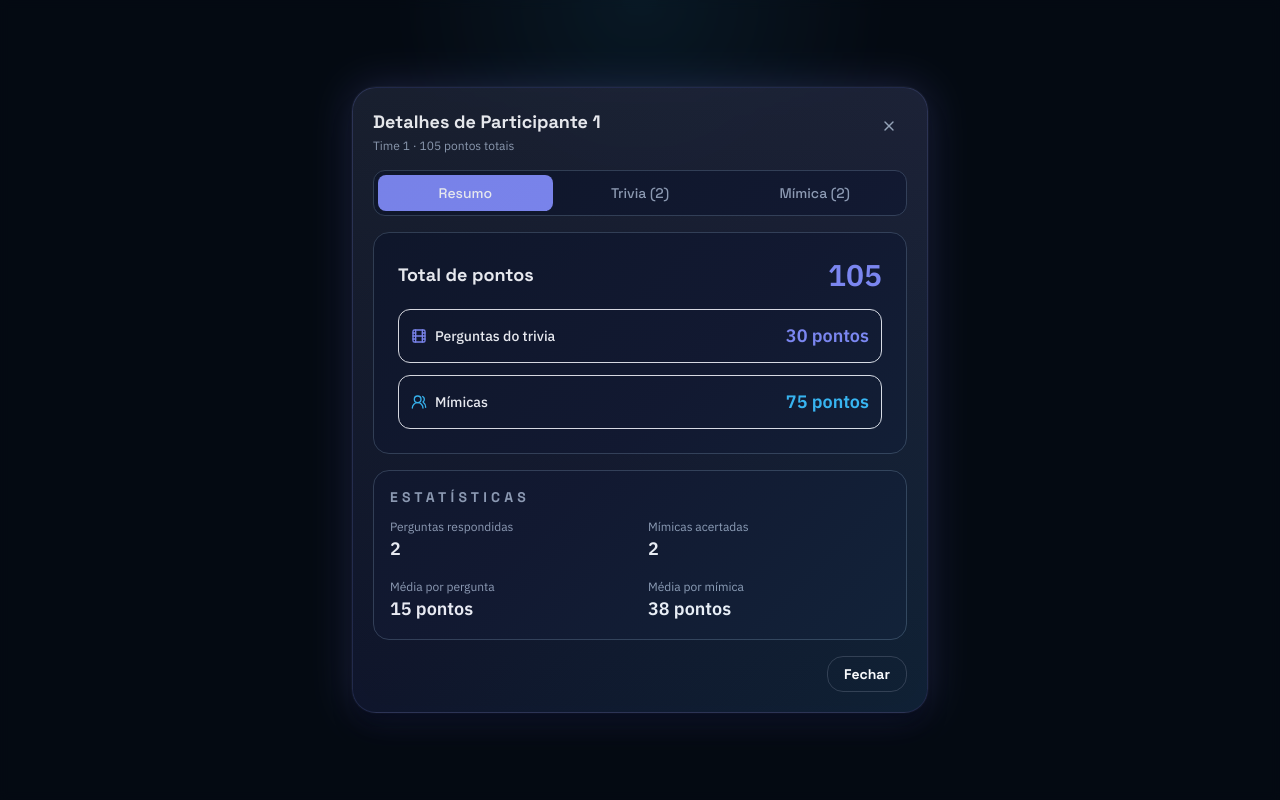
Test: ScoreDetailView › deve mostrar aba de Trivia com perguntas respondidas
This screenshot has width=1280, height=800.
Click the button "Trivia (2)" at (640, 193), box x1=553 y1=175 x2=727 y2=211
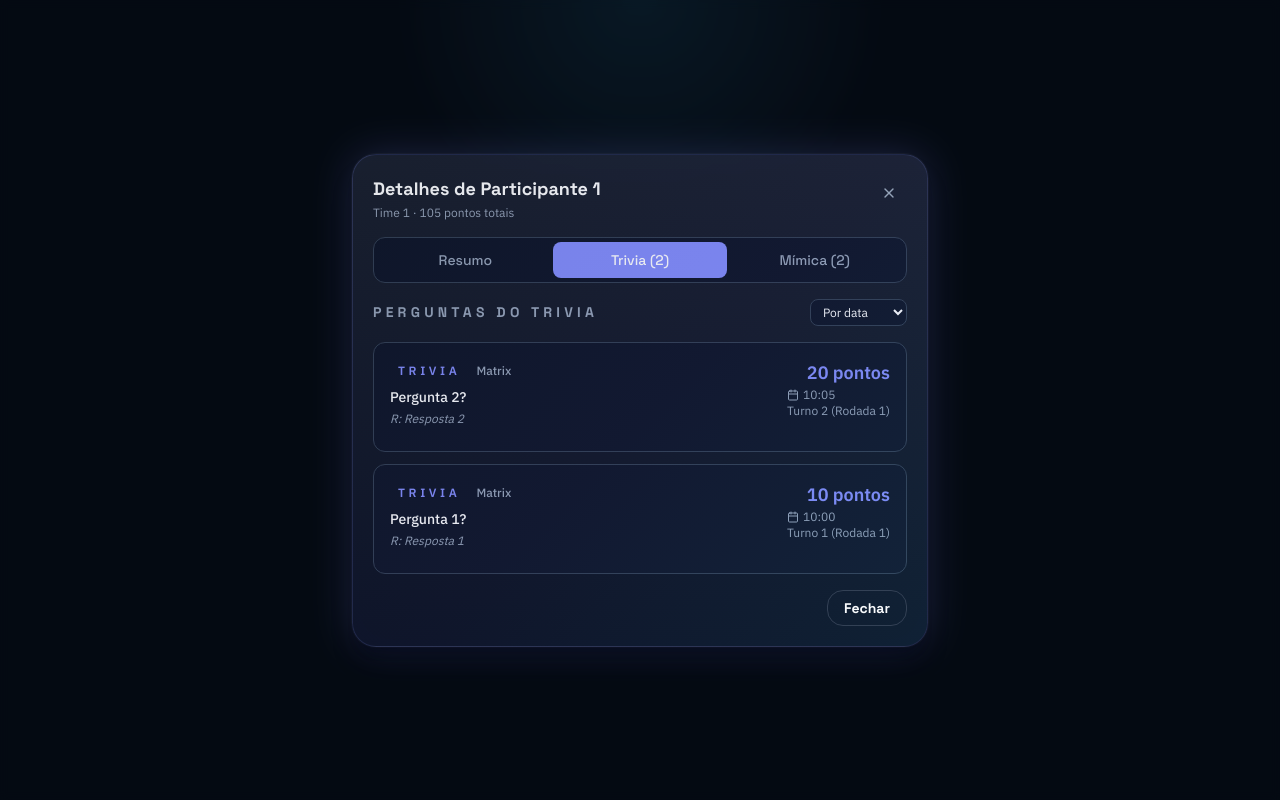
Now the text "Pergunta 1?" is shown, box x1=390 y1=510 x2=466 y2=528
Now the text "Pergunta 2?" is shown, box x1=390 y1=388 x2=466 y2=406
Now the text "Matrix" in the row of "20 pontos" is shown, box x1=476 y1=362 x2=511 y2=378
